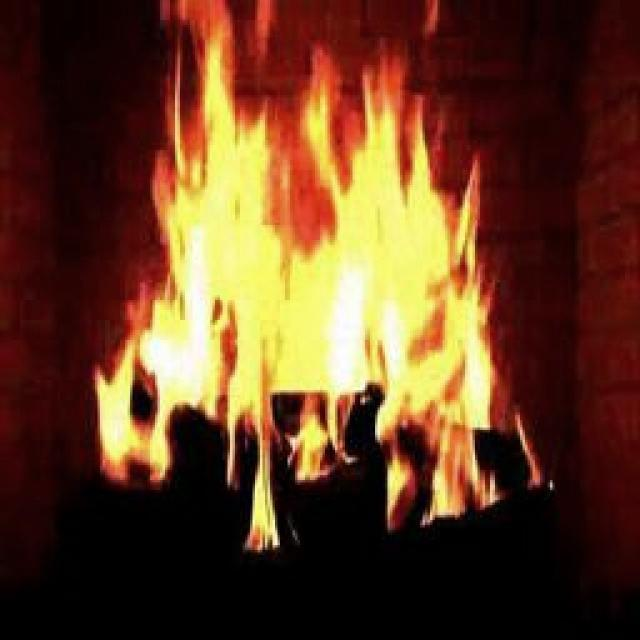Fire: (157, 20, 491, 454)
